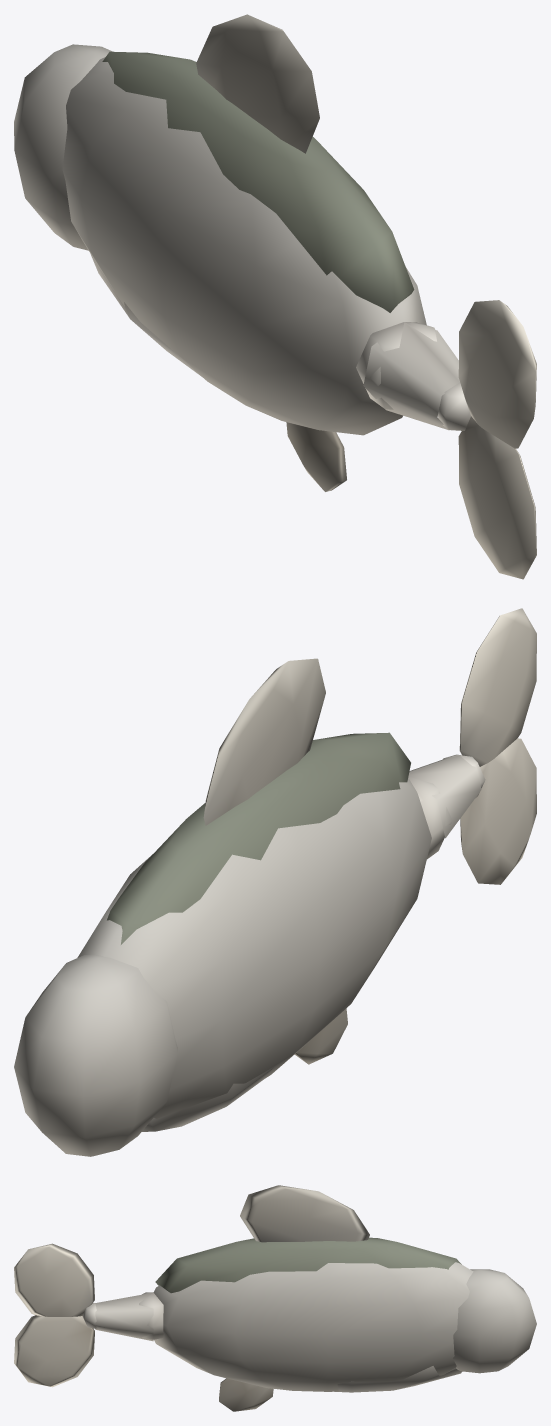
The model's file is fish.glb.
3 renders of one model, top to bottom at view 1: azimuth 30°, elevation 25°; view 2: azimuth 150°, elevation 25°; view 3: azimuth 270°, elevation 25°, orthographic. The views are drawn at different scales.
Parts seen in each view (by area): view 1: body, tail; view 2: body, tail; view 3: body, tail.
Boxes of the visible parts, <box> form: body: <box>14,14,426,491</box>; tail: <box>356,300,536,579</box>; body: <box>14,658,431,1156</box>; tail: <box>408,608,536,884</box>; body: <box>153,1185,536,1411</box>; tail: <box>14,1243,163,1387</box>.
Bounding box in the file's own units: 0.084 × 0.2136 × 0.4491.
